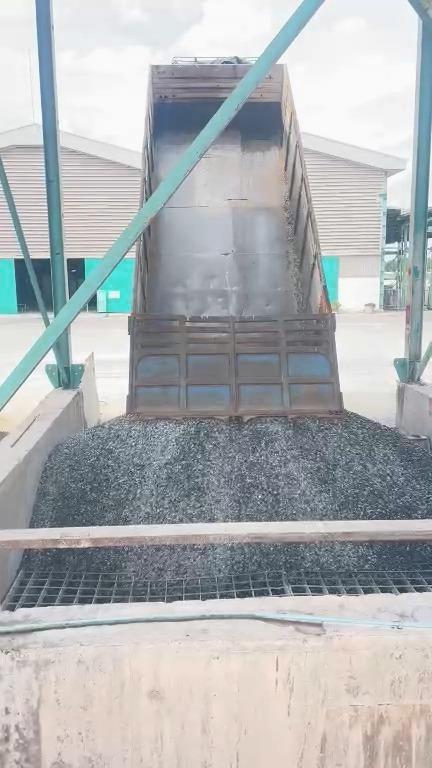gravel: (32, 413, 432, 526), (26, 545, 432, 577)
